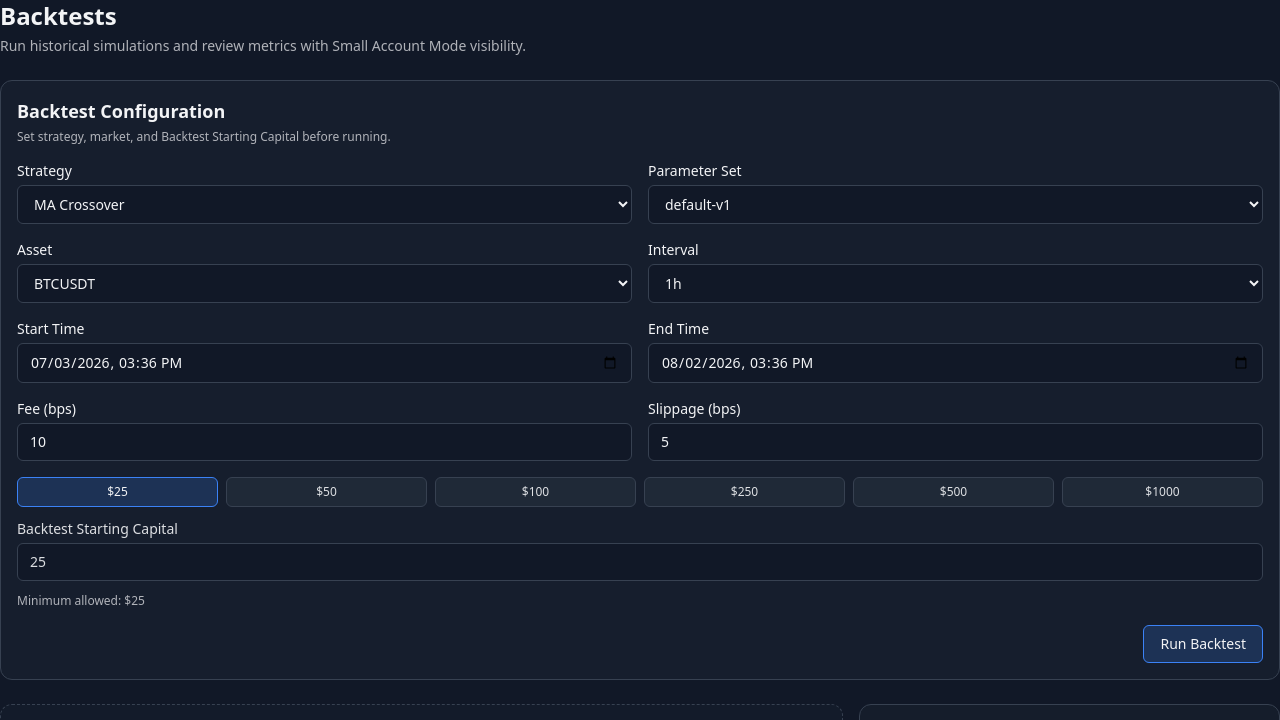
Test: BacktestsPage › shows form validation error when starting balance is below minimum
The width and height of the screenshot is (1280, 720).
Expected: the heading "Backtest Configuration" is shown, [17, 99, 225, 123]
Expected: the button "Run Backtest" is shown, [1144, 625, 1263, 663]
Replace the text in the number field labelled "Backtest Starting Capital" with "10": (640,562) [17, 543, 1263, 581]
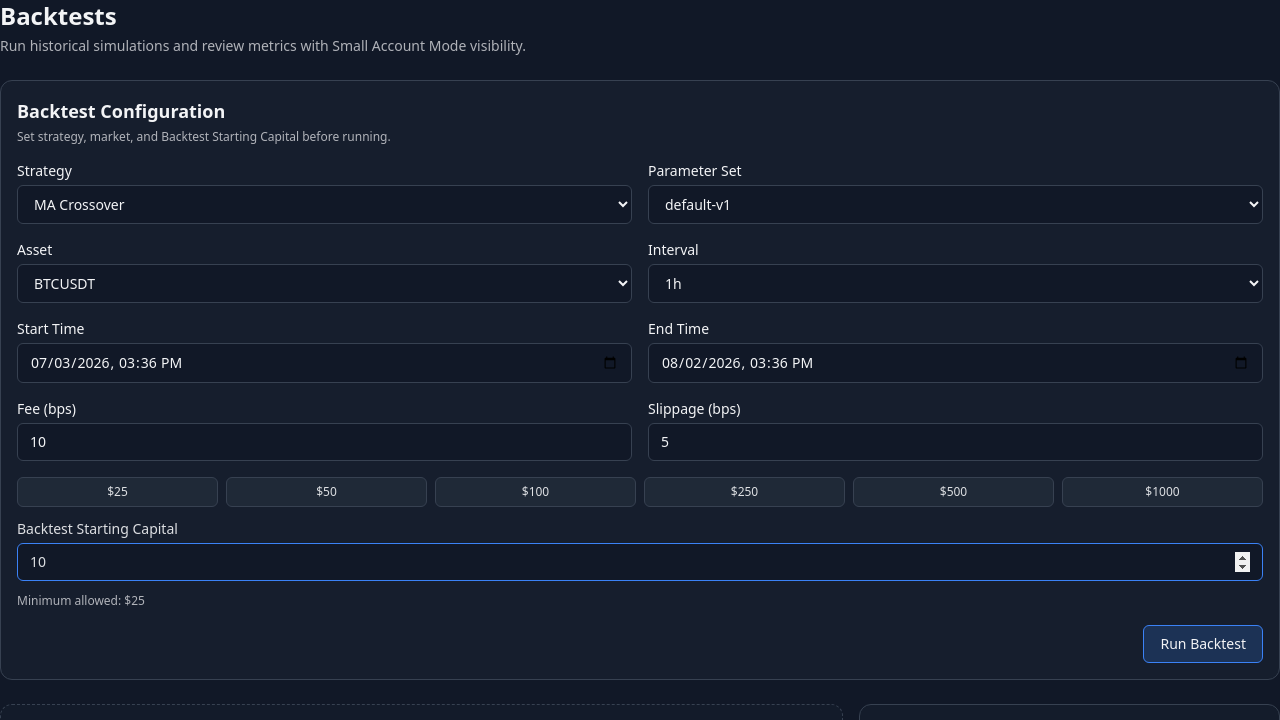
Click the button "Run Backtest": (1203,644) [1144, 625, 1263, 663]
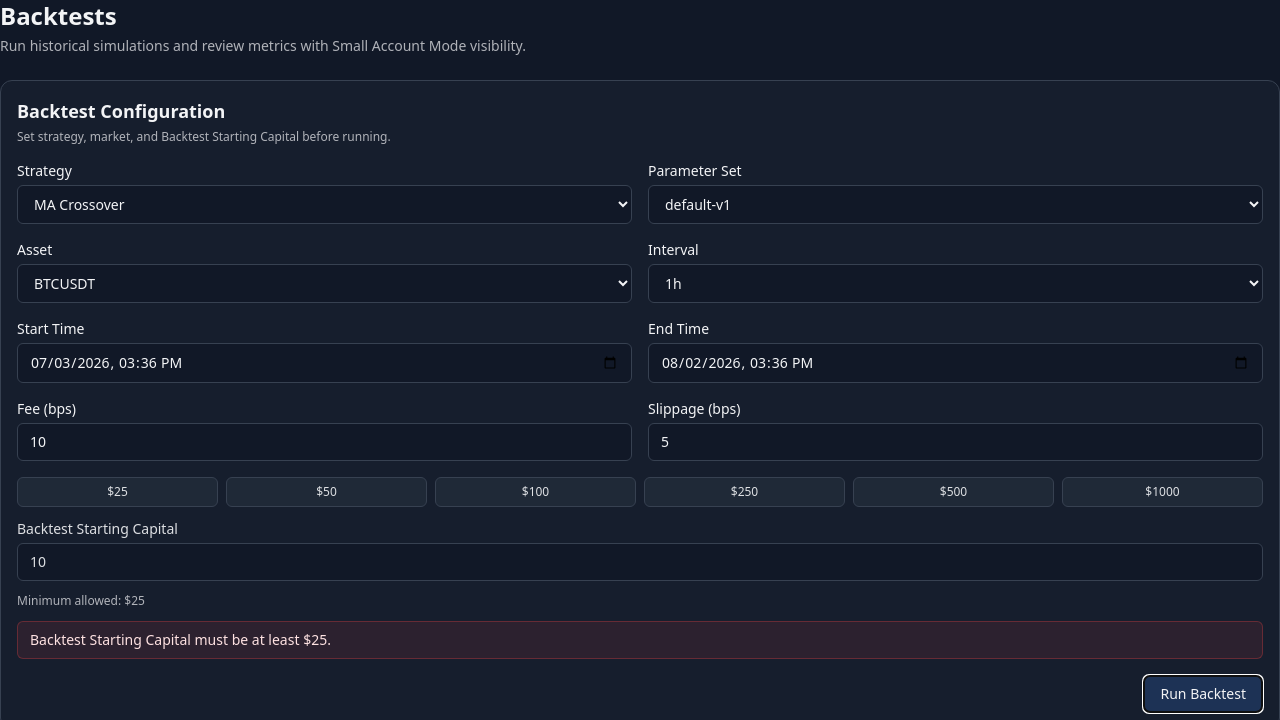
Now the text "Backtest Starting Capital must be at least $25." is shown, box [17, 621, 1263, 659]
